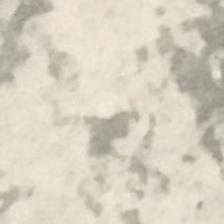Non_Crack: (34, 16, 184, 196)
